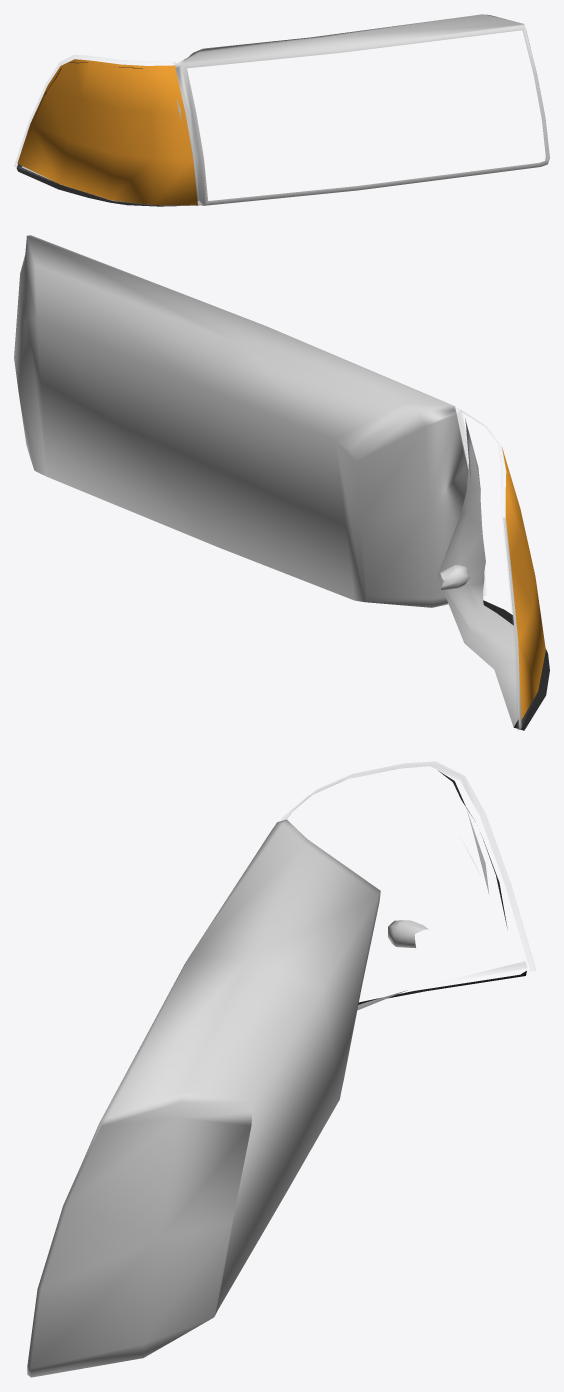
The model's file is headlight_R.glb.
3 renders of one model, top to bottom at view 1: azimuth 30°, elevation 25°; view 2: azimuth 150°, elevation 25°; view 3: azimuth 270°, elevation 25°, orthographic. The views are drawn at different scales.
Parts seen in each view (by area): view 1: headlight_R; view 2: headlight_R; view 3: headlight_R.
Boxes of the visible parts, left/top/right/bottom form: headlight_R: left=15, top=14, right=549, bottom=206; headlight_R: left=14, top=235, right=549, bottom=730; headlight_R: left=27, top=762, right=535, bottom=1377.
Bounding box in the file's own units: 0.4577 × 0.1424 × 0.2462.
